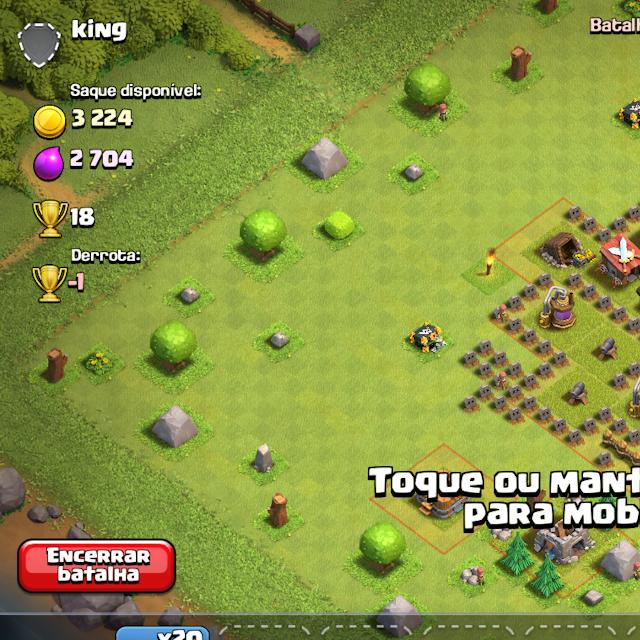Canhao: (594, 335, 621, 363), (566, 379, 590, 406)
ValueCoin: (69, 106, 145, 139)
ValueElixir: (67, 142, 142, 179)
